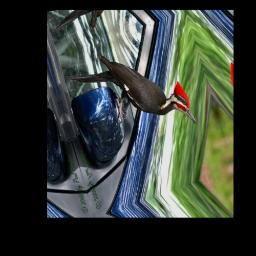Woodpecker: (61, 29, 198, 163)
